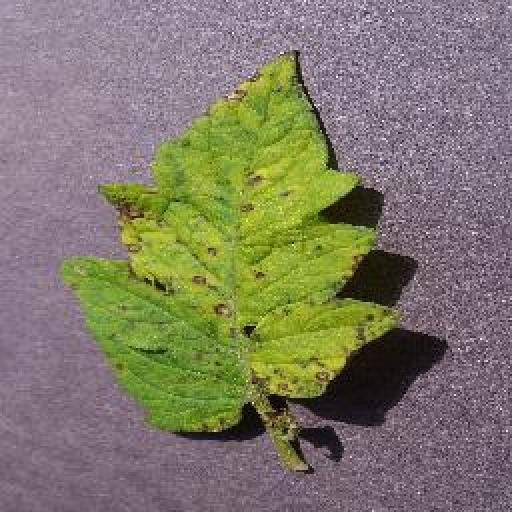disease_tomato: (56, 42, 402, 430)
